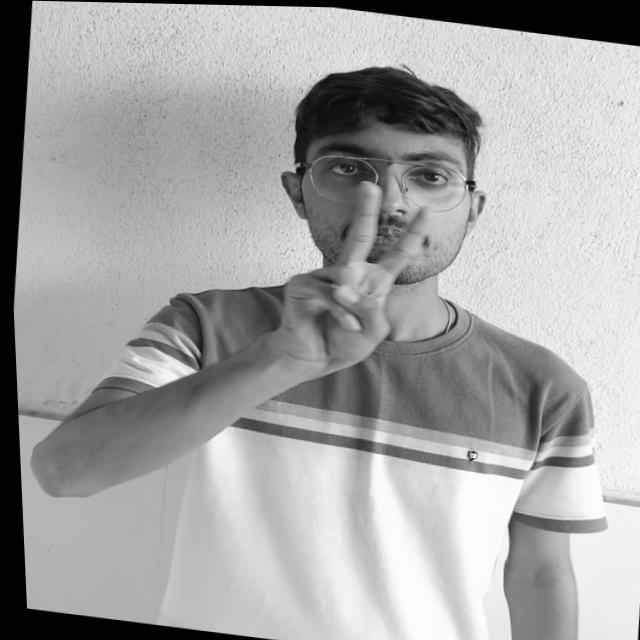Victory: (241, 159, 473, 403)
